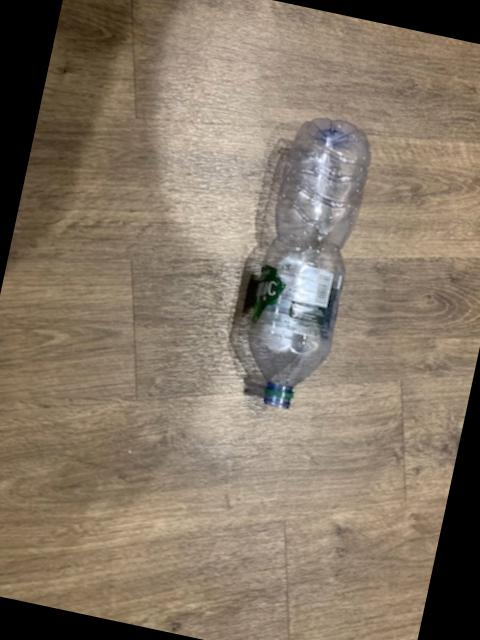plastic: (246, 120, 367, 410)
